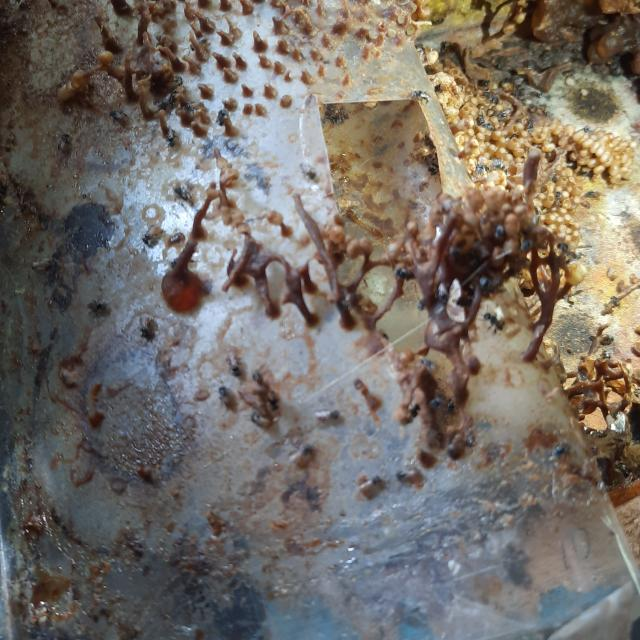honeybee: (135, 317, 155, 338), (485, 310, 504, 332), (139, 226, 156, 250), (358, 476, 380, 493), (432, 396, 454, 412), (315, 408, 340, 422), (251, 414, 270, 432), (395, 470, 419, 484), (88, 304, 107, 321), (220, 387, 234, 407), (228, 354, 241, 374), (413, 90, 432, 102), (556, 444, 571, 459), (167, 129, 178, 147), (111, 108, 122, 124), (164, 96, 175, 111)
